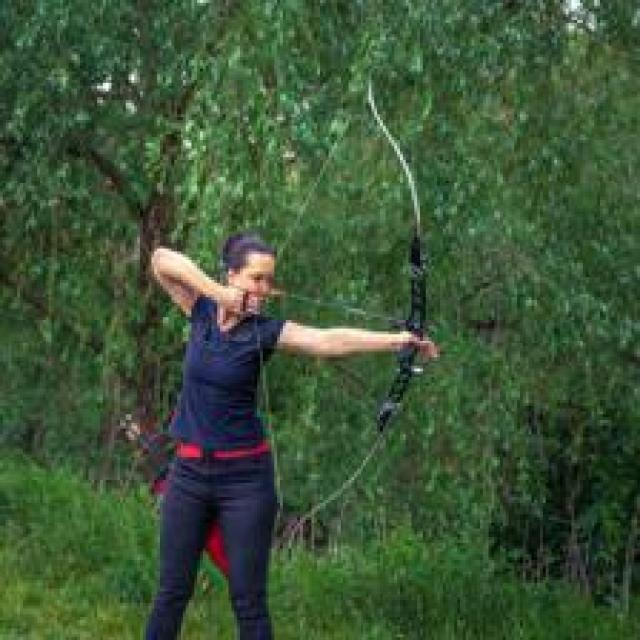X-Bow: (313, 47, 464, 584)
